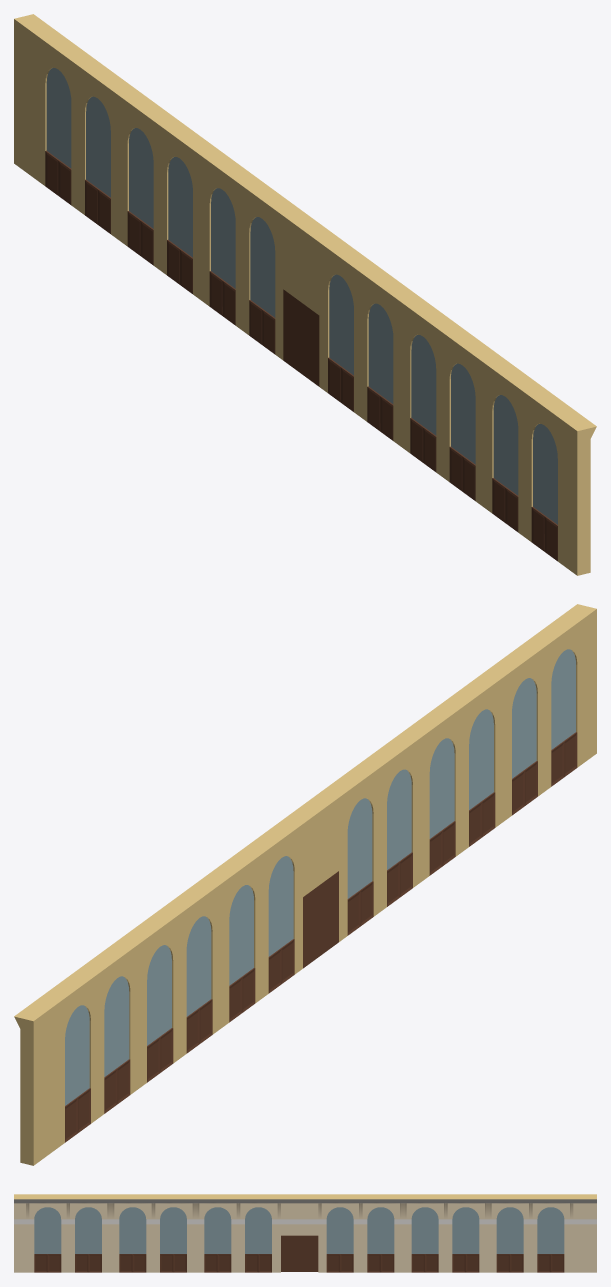
Rendered from Hall_Mur03.fbx.
3 views of the same model, one above another, from view 1: azimuth 30°, elevation 25°; view 2: azimuth 150°, elevation 25°; view 3: azimuth 270°, elevation 25° (orthographic). The views are drawn at different scales.
Visible parts, largest first — view 1: Mur03; view 2: Mur03; view 3: Mur03.
Part boxes in pixels (x1,y1,x2,y2): Mur03: [14, 14, 596, 575]; Mur03: [14, 604, 596, 1165]; Mur03: [14, 1194, 596, 1272].
Bounding box in the file's own units: 0.8405 × 5.94 × 41.96.
